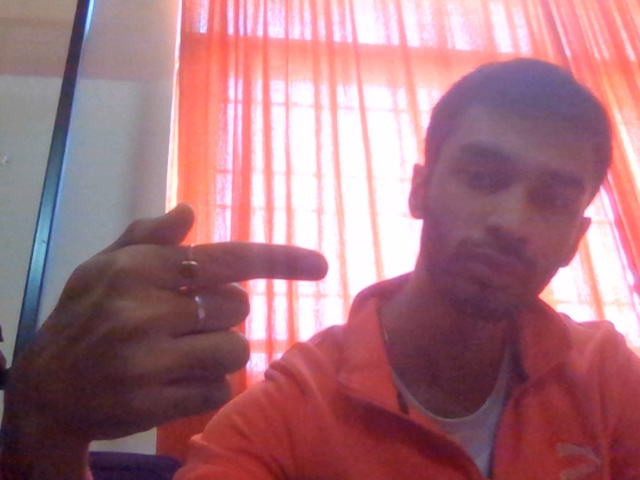G: (22, 195, 364, 480)
